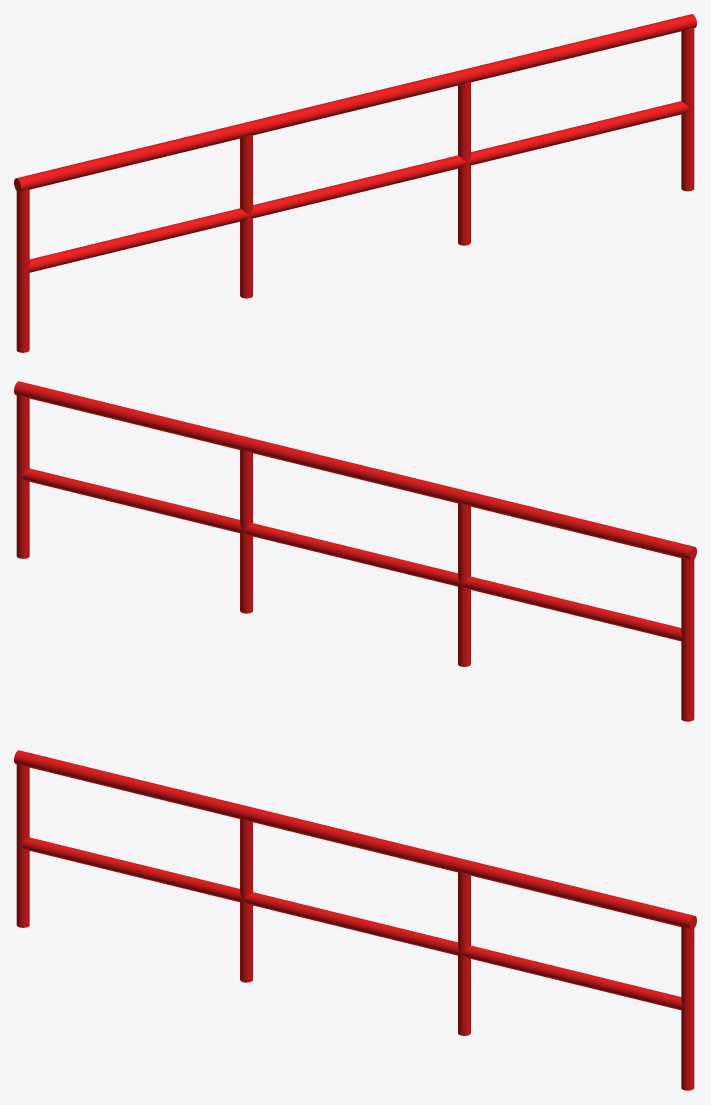
The model's file is Rail.fbx.
3 views of the same model, one above another, from view 1: azimuth 30°, elevation 25°; view 2: azimuth 150°, elevation 25°; view 3: azimuth 330°, elevation 25° (orthographic).
Visible parts, largest first — view 1: Railing; view 2: Railing; view 3: Railing.
Part boxes in pixels (box(x1,y1,x2,y2)): Railing: box(14, 14, 696, 352); Railing: box(14, 381, 696, 721); Railing: box(14, 750, 696, 1090).
Bounding box in the file's own units: 397 × 96.94 × 7.94.
